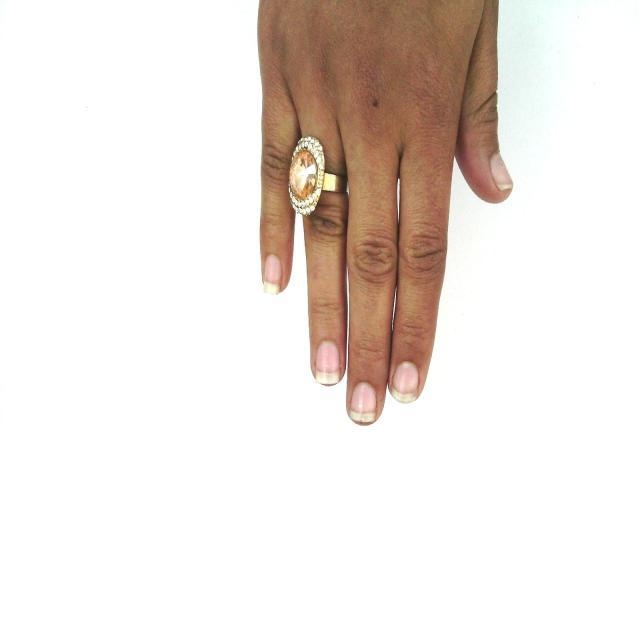Fingernail: (389, 360, 419, 404), (315, 341, 340, 385), (350, 382, 376, 422), (490, 152, 513, 191), (263, 254, 282, 296)
